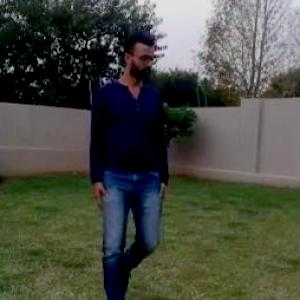follow: (85, 28, 176, 299)
